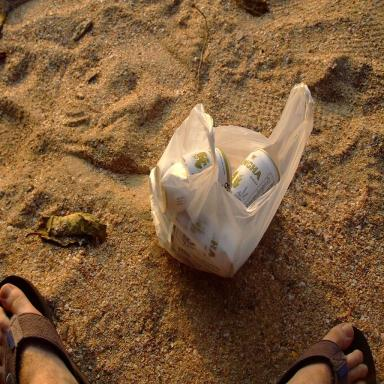plasticbag: (147, 80, 313, 278)
